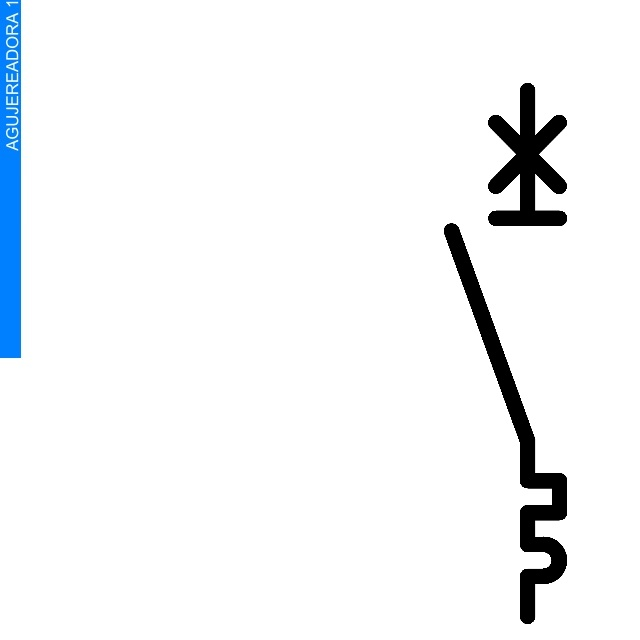interruptor_termomagnetico: (438, 77, 573, 630)
